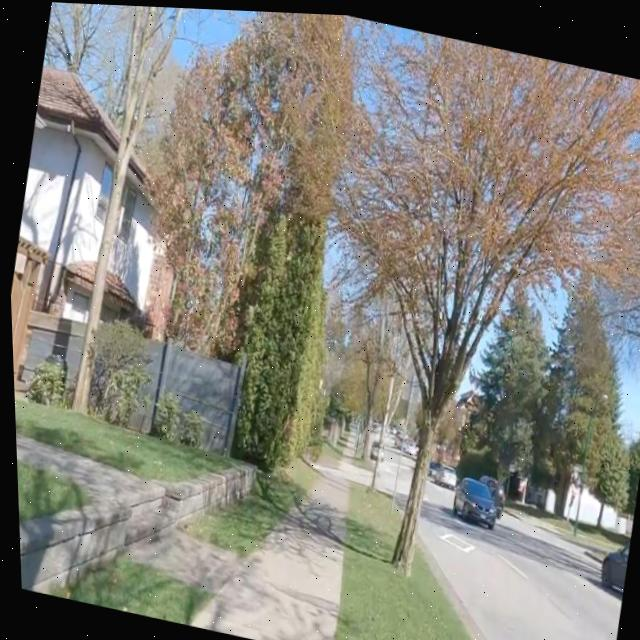Automobile: (448, 472, 491, 523), (596, 536, 626, 585), (430, 461, 450, 484), (366, 439, 374, 456)
Road: (414, 479, 618, 640), (372, 443, 409, 499), (310, 453, 365, 481)
Sidewalk: (184, 471, 344, 640), (122, 526, 235, 591)
